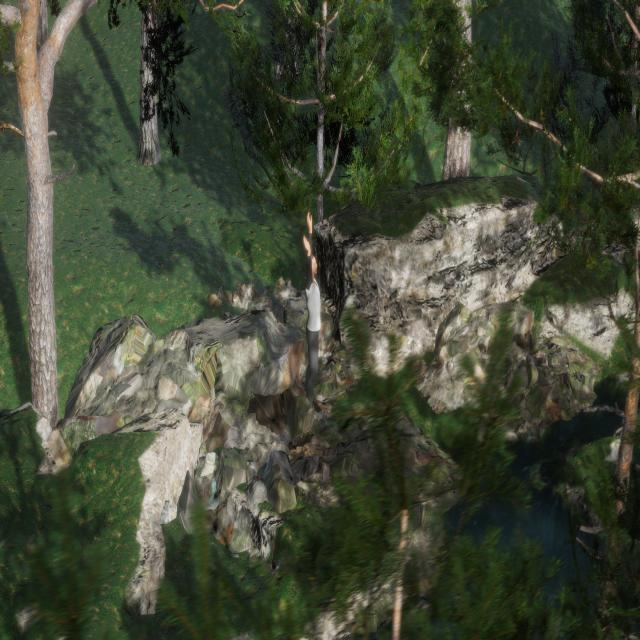Human: (293, 203, 331, 427)
